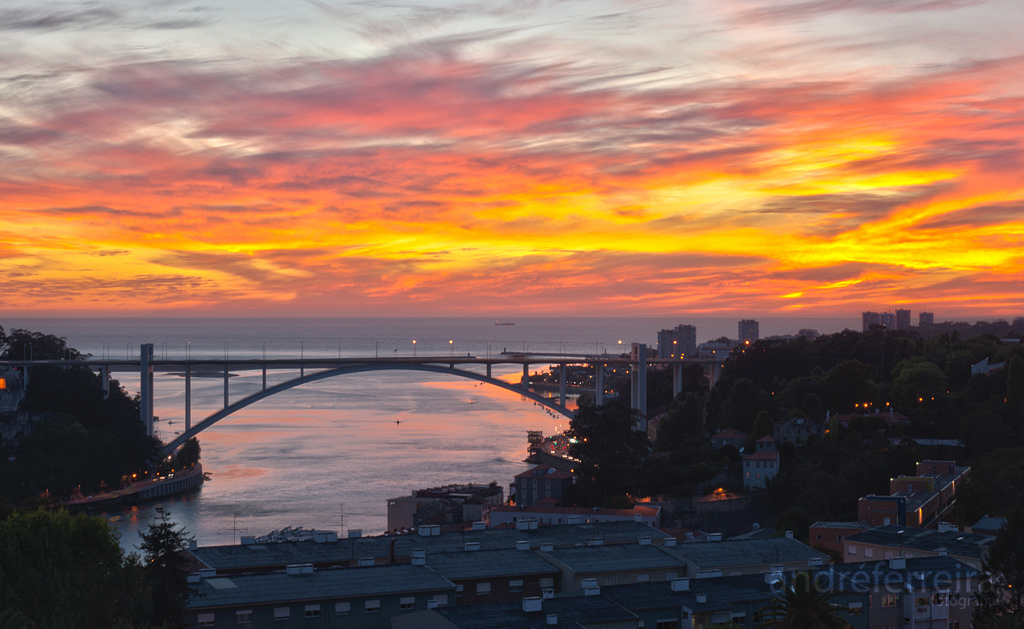arrabida: (0, 340, 731, 473)
